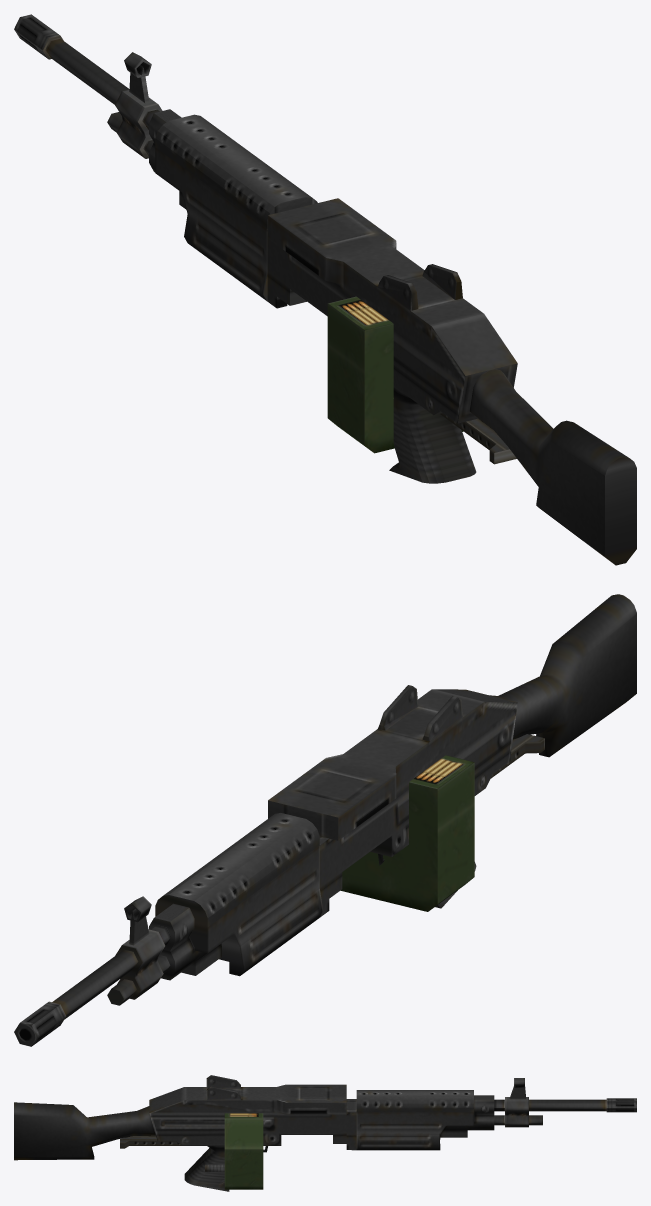
The model's file is Machine_GUN.fbx.
3 views of the same model, one above another, from view 1: azimuth 30°, elevation 25°; view 2: azimuth 150°, elevation 25°; view 3: azimuth 270°, elevation 25° (orthographic). The views are drawn at different scales.
Visible parts, largest first — view 1: m249, AmmoBox, Leg01; view 2: m249, AmmoBox, Leg01; view 3: m249, AmmoBox, Leg02.
Part boxes in pixels (<box>): m249: <box>14,14,636,565</box>; AmmoBox: <box>327,296,463,453</box>; Leg01: <box>440,413,516,464</box>; m249: <box>14,594,636,1046</box>; AmmoBox: <box>340,755,474,911</box>; Leg01: <box>490,734,544,778</box>; m249: <box>14,1075,636,1191</box>; AmmoBox: <box>224,1113,263,1189</box>; Leg02: <box>120,1136,181,1148</box>.
Size of the model in its own units: 113 by 166 by 874.
Materials: 1 (1 with a texture image).
